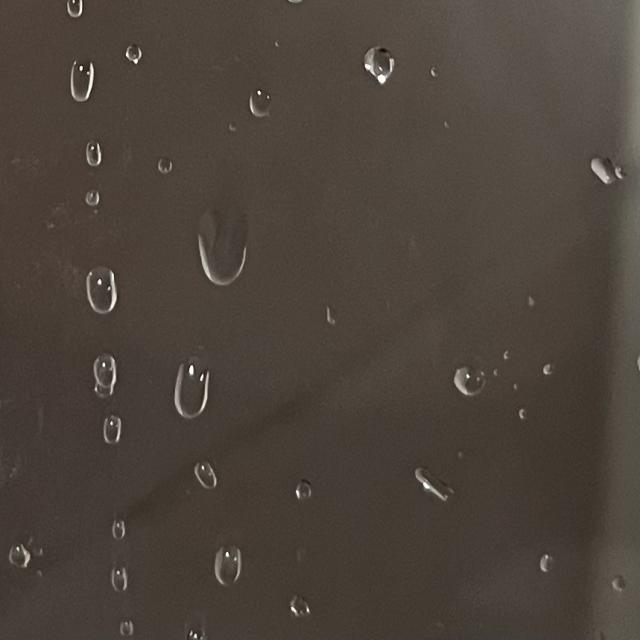raindrop: (196, 213, 259, 294), (410, 453, 476, 530), (201, 528, 259, 603), (172, 348, 221, 430), (86, 251, 132, 333), (577, 150, 637, 203), (358, 38, 401, 101), (445, 351, 492, 406), (268, 570, 311, 624), (82, 346, 125, 396), (188, 447, 222, 508), (238, 84, 293, 119), (529, 540, 561, 598), (306, 292, 346, 336), (91, 412, 130, 457), (99, 510, 139, 552), (75, 51, 105, 104), (604, 541, 628, 602), (1, 535, 32, 577), (104, 566, 138, 604), (539, 352, 566, 396), (75, 131, 106, 167), (120, 42, 147, 76), (118, 603, 146, 633), (292, 466, 317, 499), (84, 172, 106, 209), (184, 606, 209, 638), (58, 0, 87, 16)
